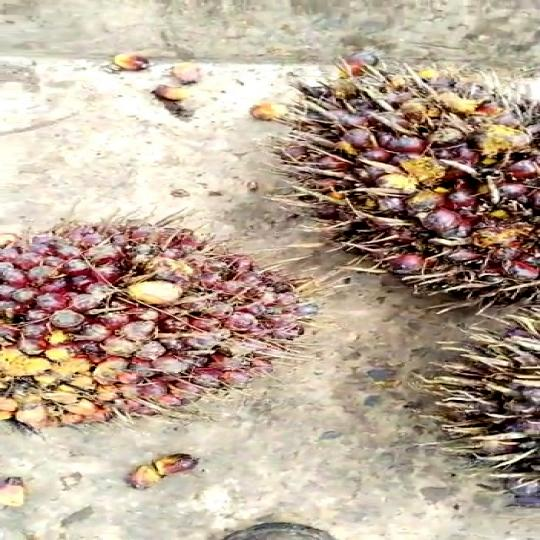masak: (0, 225, 319, 422), (295, 63, 540, 303)
